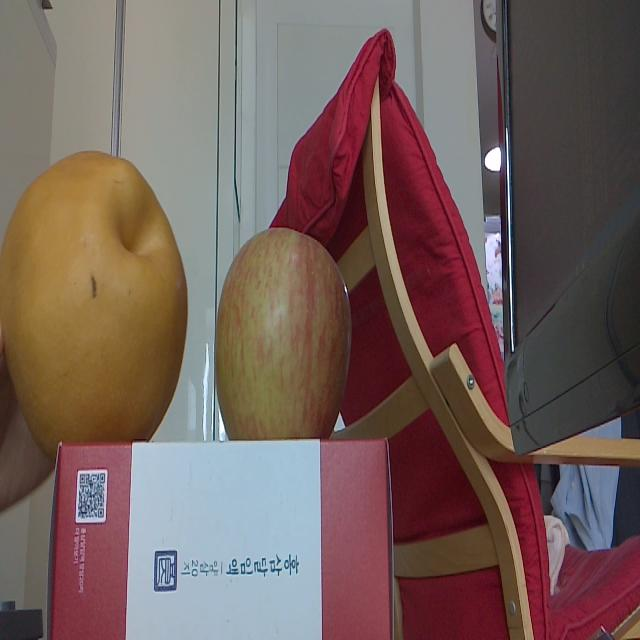apple: (212, 226, 352, 439)
pear: (0, 152, 188, 460)
